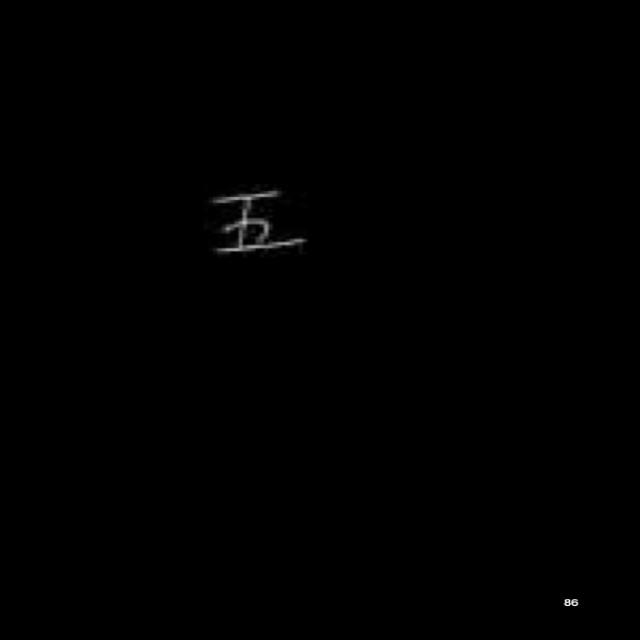5 -five-: (204, 186, 320, 265)
